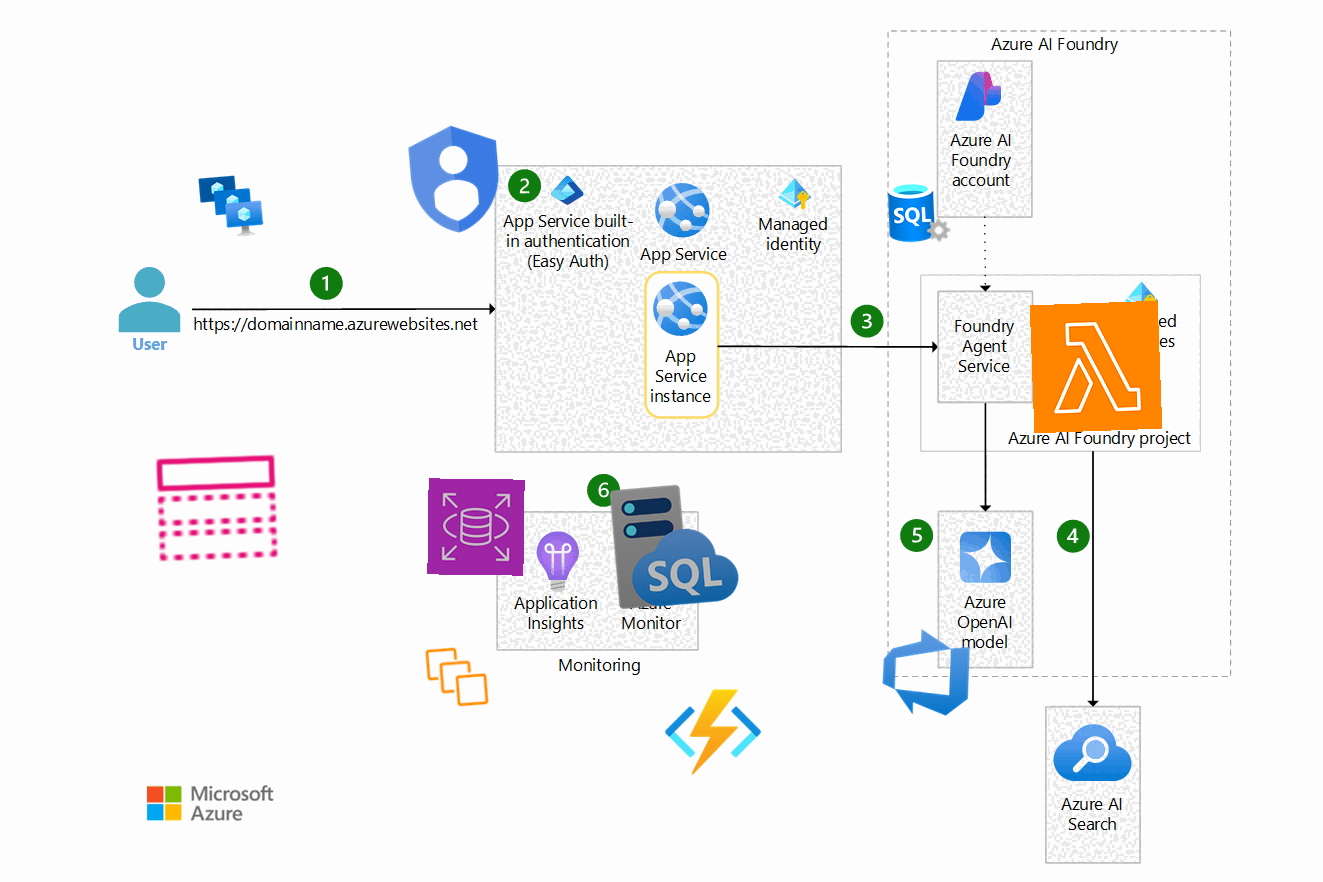aws_amazon_rds: (427, 478, 525, 576)
aws_ec2_instances: (422, 642, 492, 712)
aws_lambda: (1029, 300, 1163, 434)
aws_simple_notification_service_topic: (150, 441, 284, 575)
azure_devops: (876, 622, 976, 722)
azure_function_apps: (664, 683, 762, 781)
azure_sql_managed_instance: (605, 475, 745, 615)
azure_sql_server: (885, 178, 953, 246)
azure_vm_scale_sets: (195, 170, 265, 240)
gcp_identity_and_access_management: (385, 109, 525, 249)
